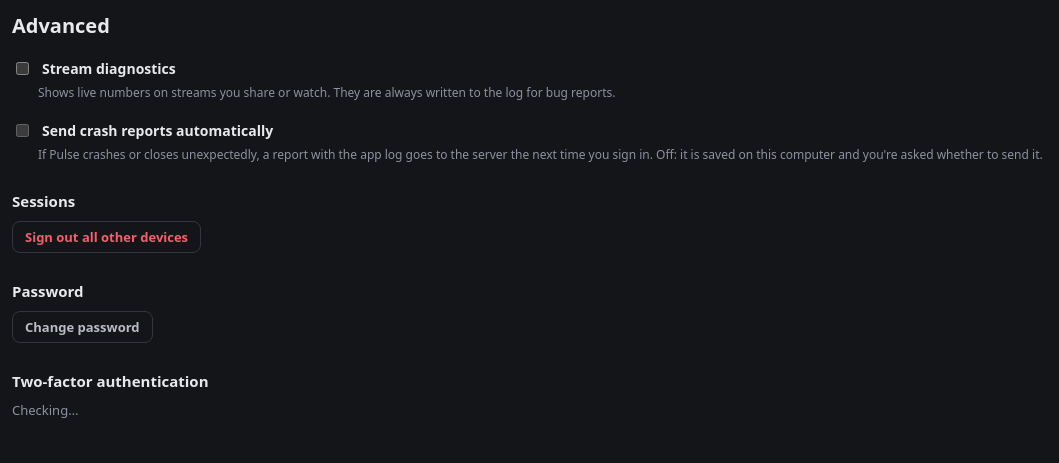
Scenario: AdvancedSettings: sign out other devices › says so when there was nothing else signed in
What coordinates should you click on to do the following:
click the button "Sign out all other devices"
I would click on:
 (107, 237)
Its box is [12,221,201,253].
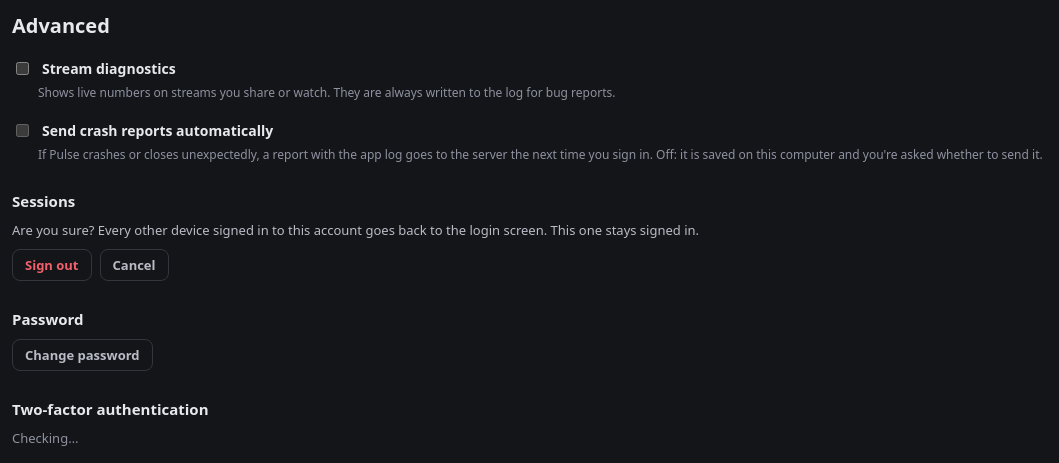
What coordinates should you click on to do the following:
click the button "Sign out"
I would click on:
 (52, 265)
Its box is [12,249,92,281].
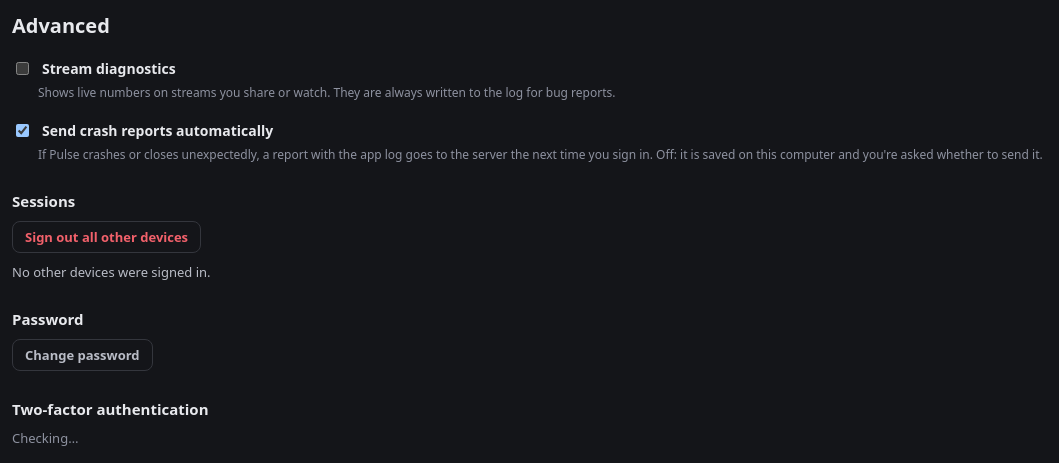
Result: the text "No other devices were signed in" is shown at [12,263,211,281]
